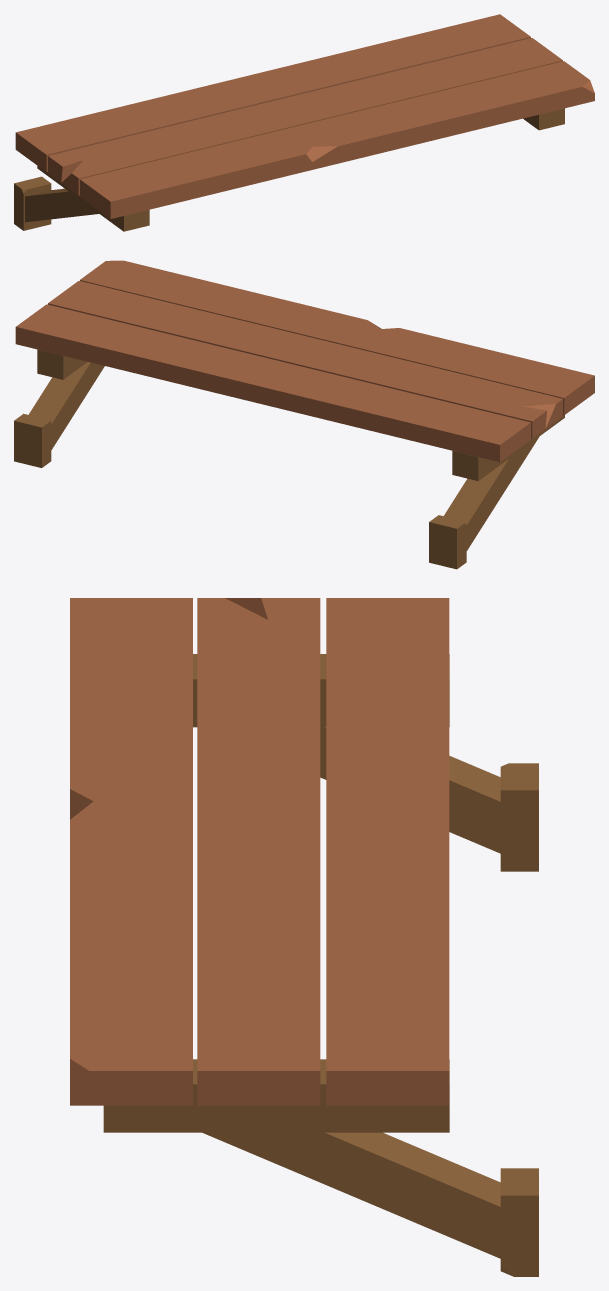
File: wall_shelf.obj
3 renders of one model, top to bottom at view 1: azimuth 30°, elevation 25°; view 2: azimuth 150°, elevation 25°; view 3: azimuth 270°, elevation 25°, orthographic. The views are drawn at different scales.
Visible parts, largest first — view 1: wall_shelf; view 2: wall_shelf; view 3: wall_shelf.
Part boxes in pixels (x1,y1,x2,y2): wall_shelf: [14, 14, 594, 231]; wall_shelf: [14, 260, 594, 569]; wall_shelf: [70, 598, 538, 1276].
Bounding box in the file's own units: 0.6301 × 0.1406 × 0.2643.
